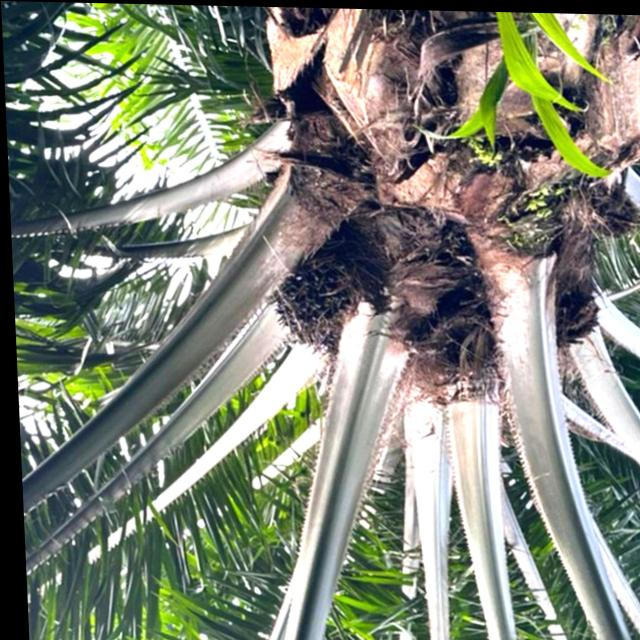unripe: (261, 227, 375, 355)
